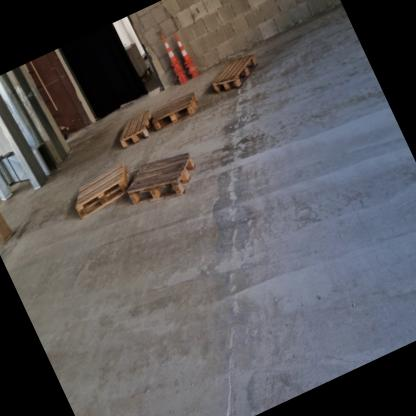BoxFace: (122, 146, 199, 207), (74, 158, 131, 226), (149, 88, 204, 132), (206, 54, 262, 94), (116, 103, 156, 154)
